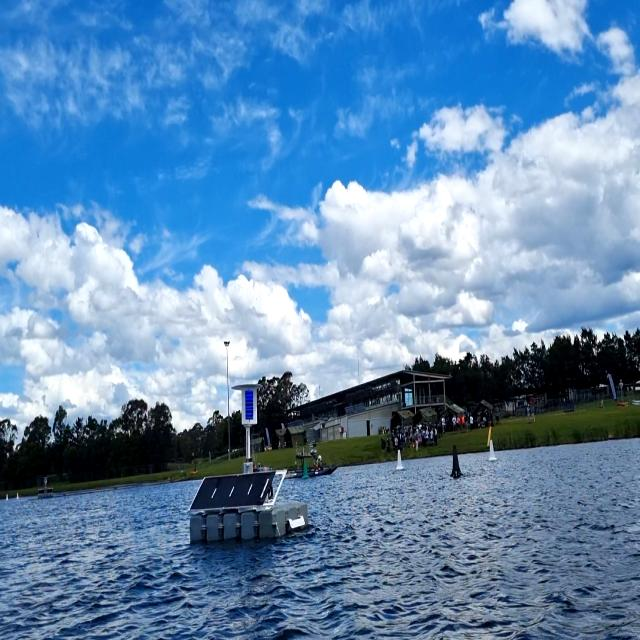led: (243, 388, 256, 423)
